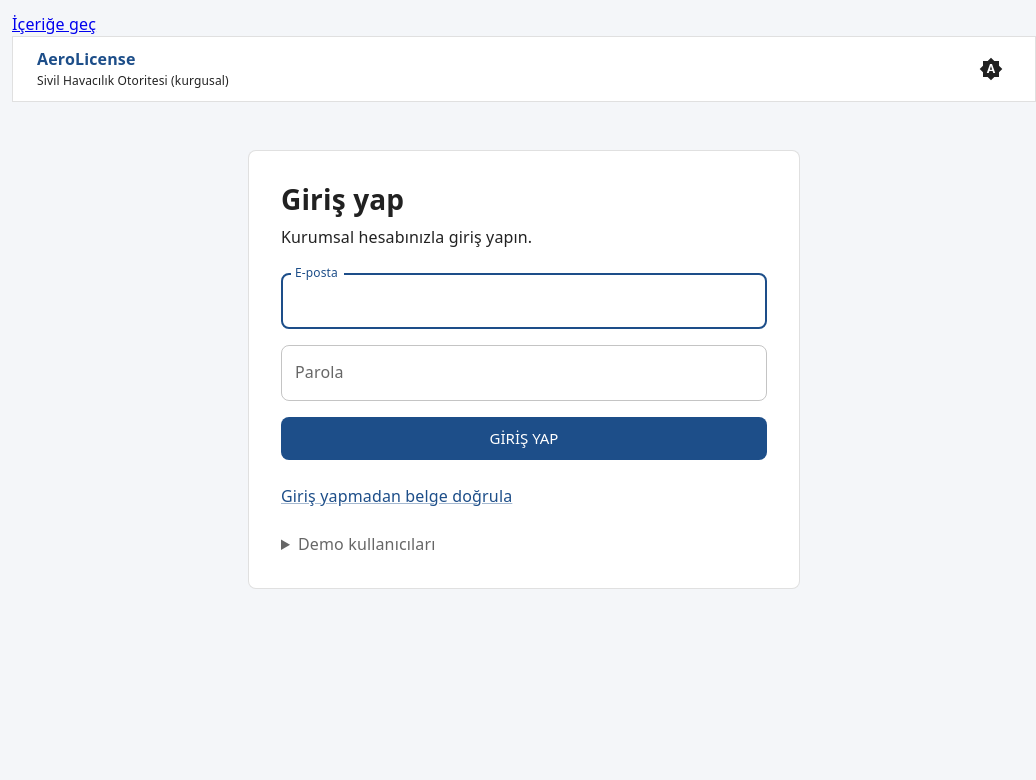
Giriş formu › boş gönderimde alan hatalarını gösterir ve API çağırmaz
This screenshot has width=1036, height=780.
What coordinates should you click on to do the following:
click the button "Giriş yap"
I would click on:
 (524, 439)
Its box is [281,418,767,460].
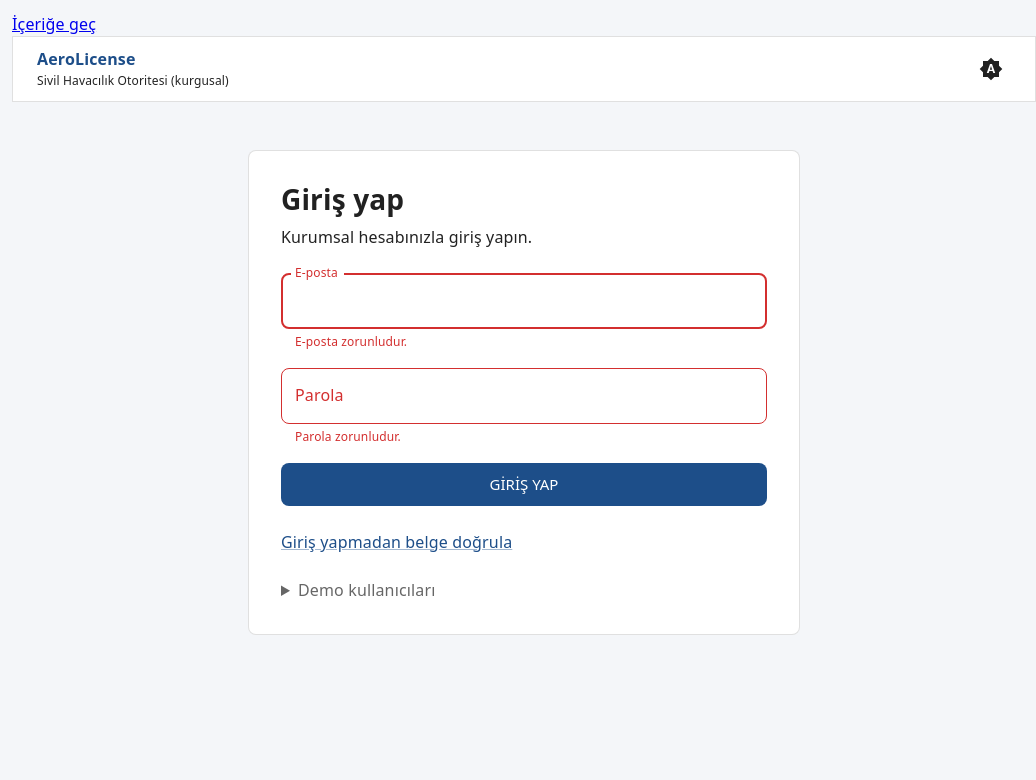
Now the text "E-posta zorunludur." is shown, box [295,334,407,350]
Now the text "Parola zorunludur." is shown, box [295,428,401,445]
